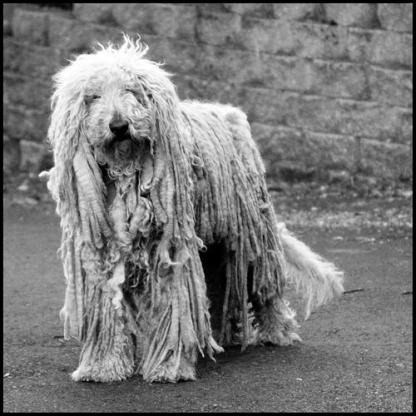komondor: (38, 33, 351, 388)
